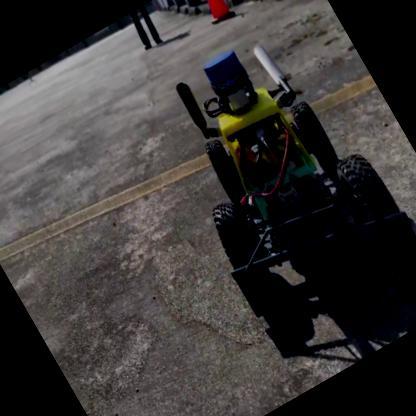cone: (189, 0, 240, 30)
mushr_car: (131, 11, 415, 354)
